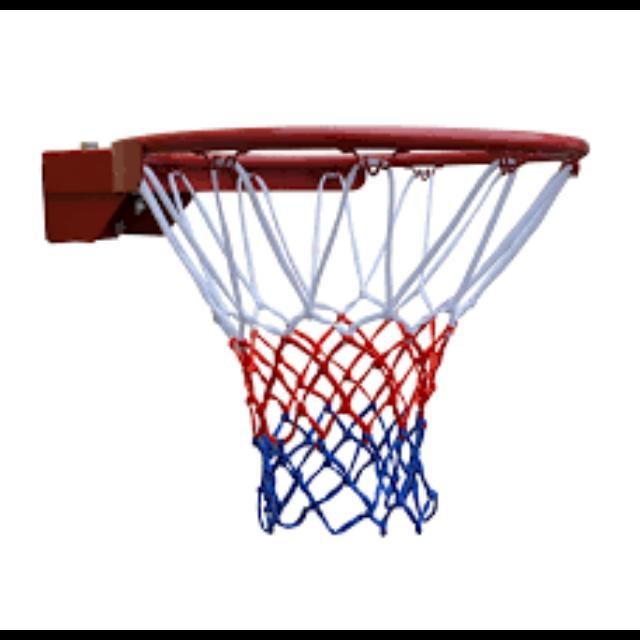rim: (115, 126, 590, 538)
